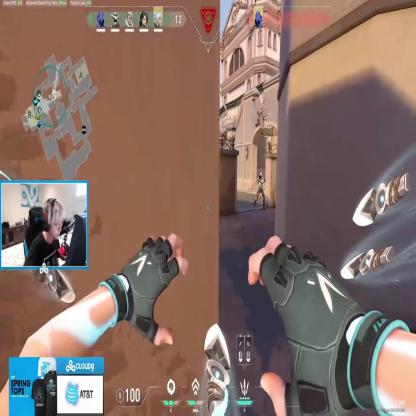enemy: (254, 168, 265, 212)
enemy_head: (259, 172, 262, 179)
